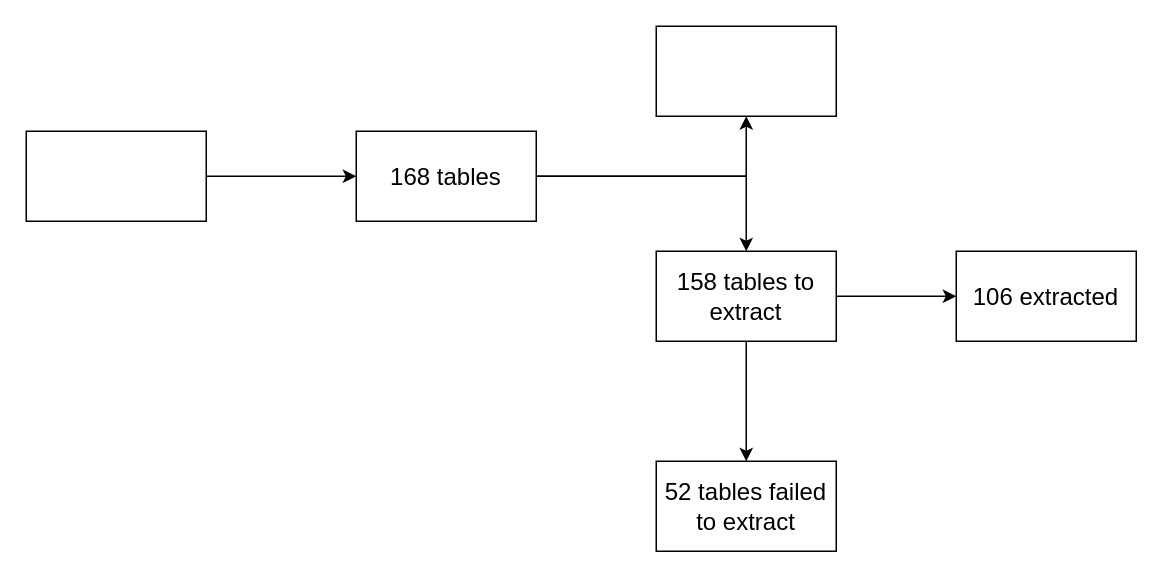
This 1163x578 diagram has some shape labels left out. Each missing label, with the centre of its shape:
"10 out of scope" goes at point 745,70.
"54 test papers" goes at point 115,175.
